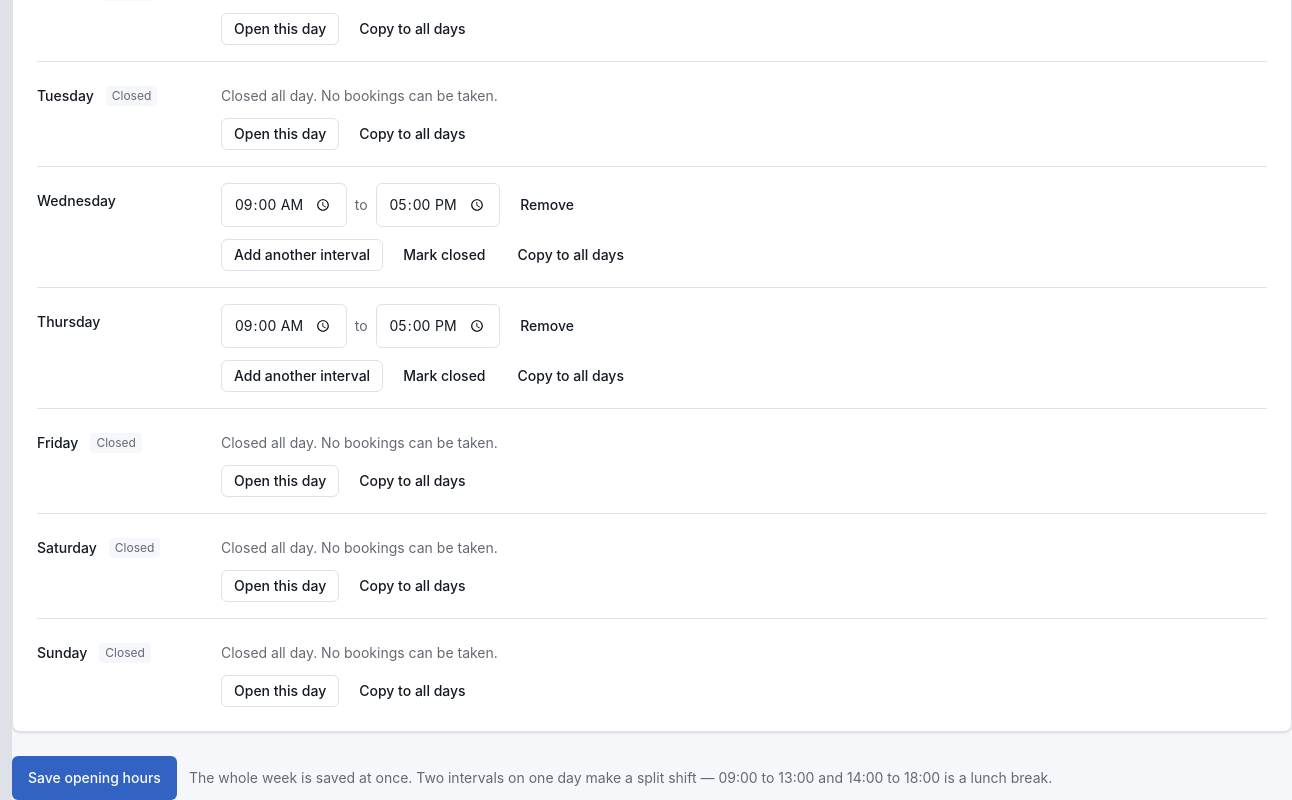
Test: HoursEditor, refused › places each message on the day that produced it, not the row of the same number
(page scrolled)
Click the button "Save opening hours". click: (94, 778)
box: [12, 756, 177, 799]
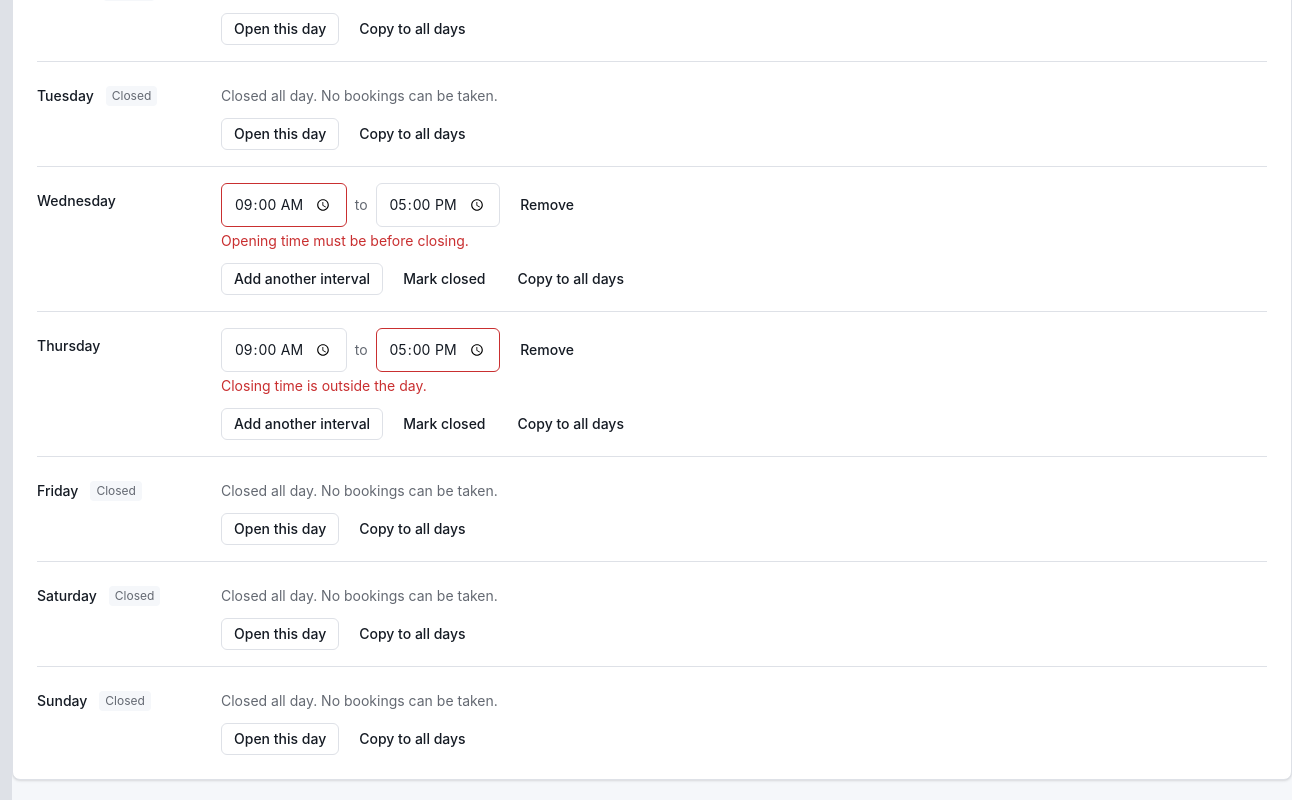
Check: the list item "Thursday" is shown, box [37, 337, 100, 354]
Check: the text "Opening time must be before closing." is shown, box [221, 232, 469, 249]
Check: the text "Closing time is outside the day." is shown, box [221, 377, 427, 394]
